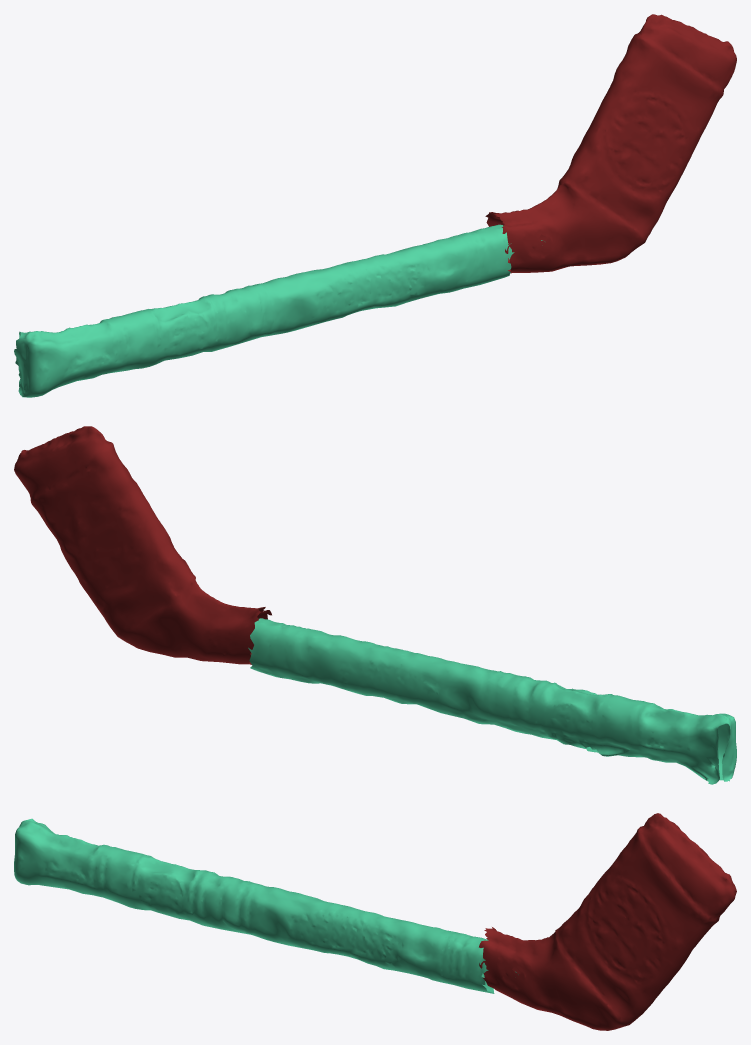
Rendered from object_deformed_6.obj.
3 views of the same model, one above another, from view 1: azimuth 30°, elevation 25°; view 2: azimuth 150°, elevation 25°; view 3: azimuth 330°, elevation 25° (orthographic). The views are drawn at different scales.
Size of the model in its own units: 0.6148 by 0.1835 by 0.0488.
